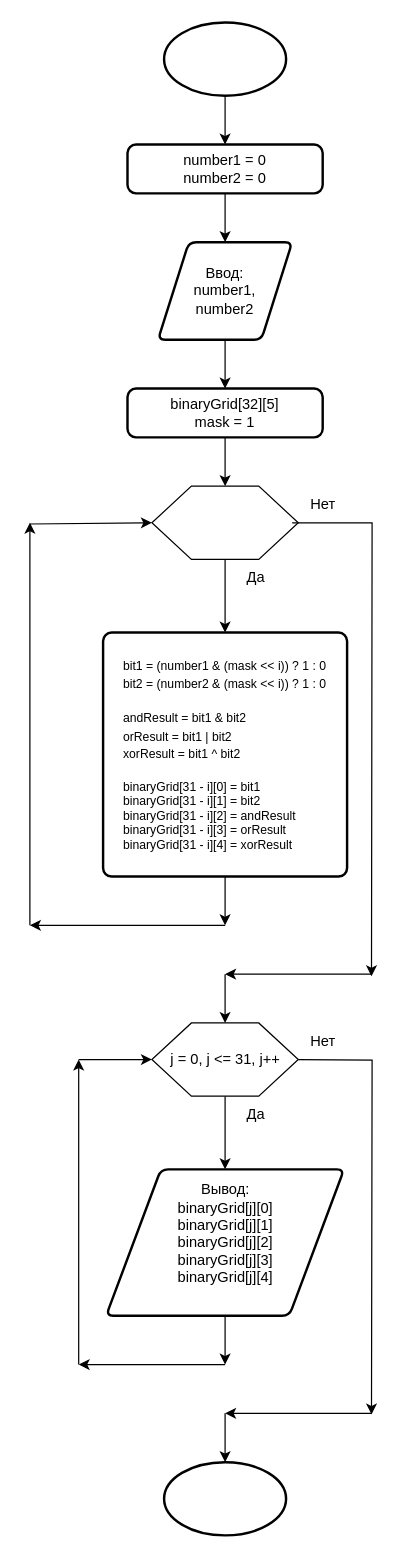
This 404x1557 diagram has some shape labels left out. The box of each missing label's shape, as (x1, y1, x2, y2) in pixels:
i = 31, i >= 0, i--: (151, 485, 298, 559)
Конец: (162, 1460, 287, 1536)
Начало: (162, 21, 287, 96)
